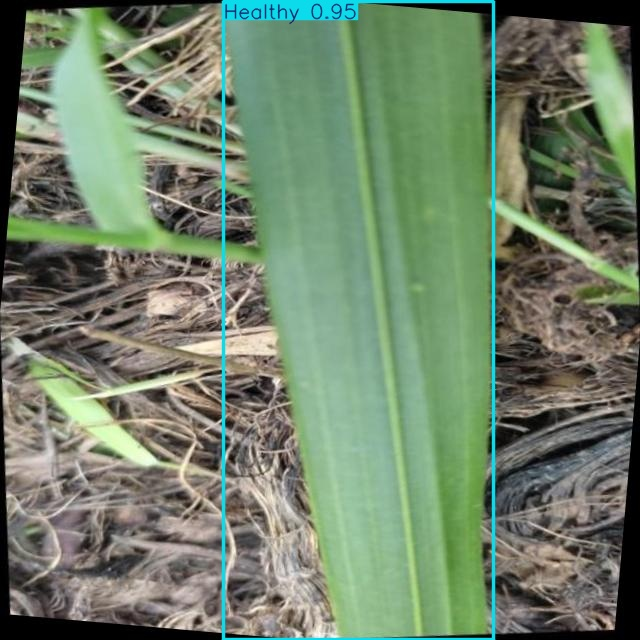Healthy: (223, 1, 493, 639)
